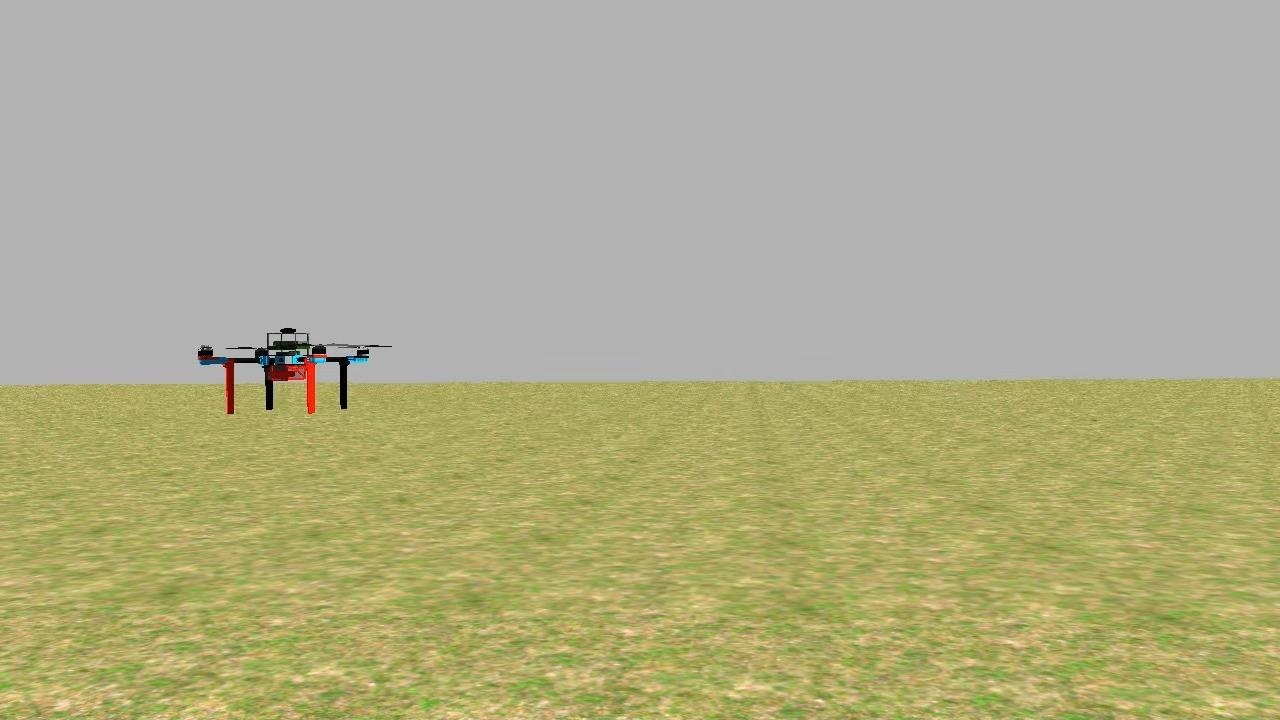UAV: (187, 311, 377, 426)
